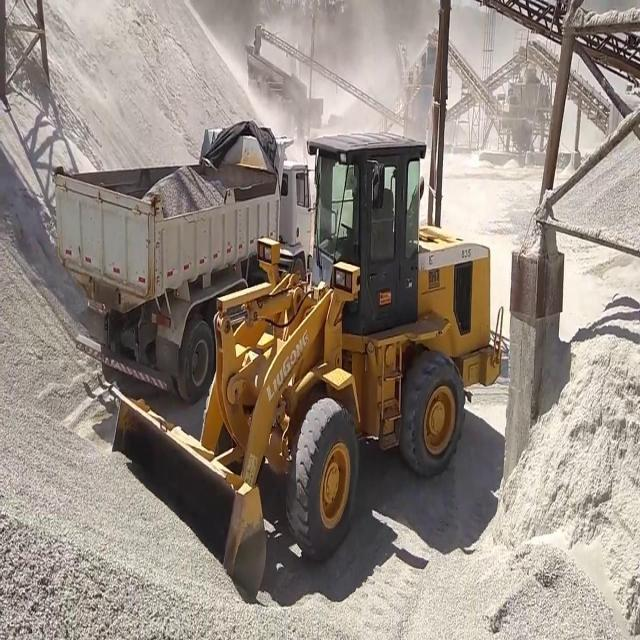Dump Truck: (52, 124, 316, 403)
Loader: (111, 132, 503, 602)
